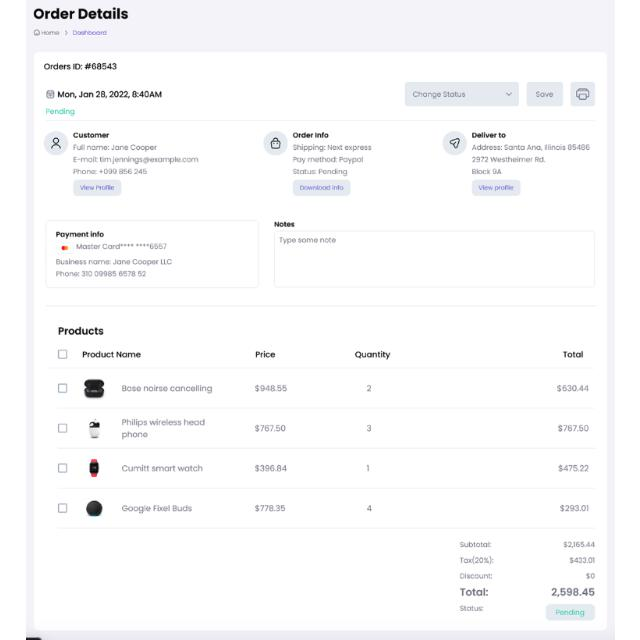QLabel: (32, 6, 128, 22), (72, 156, 198, 164), (56, 258, 170, 266), (56, 91, 162, 99), (472, 144, 590, 150), (72, 144, 156, 152), (292, 144, 371, 152), (292, 156, 362, 164), (76, 244, 166, 250), (56, 271, 144, 277), (42, 63, 116, 69), (471, 156, 545, 162), (72, 169, 146, 175), (58, 326, 102, 336), (550, 588, 594, 598), (292, 169, 346, 177), (55, 231, 103, 239), (460, 556, 492, 564), (562, 540, 594, 548), (45, 108, 73, 116), (460, 588, 488, 596), (555, 610, 583, 618), (292, 132, 328, 138), (72, 132, 108, 138), (472, 132, 504, 138), (459, 542, 491, 548), (460, 573, 492, 579), (570, 556, 594, 564), (471, 168, 501, 174), (299, 186, 343, 190), (459, 605, 483, 611), (478, 186, 512, 190), (79, 186, 113, 190), (273, 222, 293, 228), (536, 92, 552, 98), (586, 573, 594, 579)
VBreadcrumbs: (31, 28, 107, 36)
VBtn: (526, 82, 562, 106)
VCard: (33, 51, 609, 631), (45, 220, 259, 288)
VChip: (546, 605, 594, 621)
VCombobox: (404, 82, 518, 106)
VDataTable: (43, 345, 599, 533)
VDivider: (46, 118, 594, 122), (45, 304, 595, 306)
VIcon: (576, 88, 588, 100), (270, 137, 280, 149), (50, 137, 60, 149), (449, 138, 459, 148), (45, 90, 53, 98), (60, 245, 68, 251)
VTextarea: (274, 232, 594, 288)
